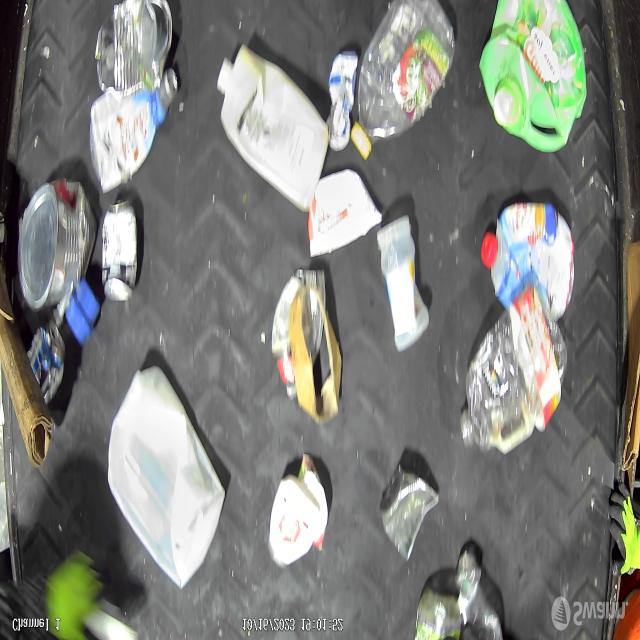can: (19, 178, 97, 314), (94, 0, 176, 100), (380, 466, 440, 560), (101, 202, 139, 304), (326, 48, 358, 148), (29, 320, 65, 402)
milk_jug: (106, 366, 228, 588), (216, 44, 329, 212)
non_white_jug: (458, 294, 568, 454), (480, 0, 588, 153), (482, 200, 576, 322), (89, 68, 179, 192)
plastic_bottle: (350, 0, 456, 160)
